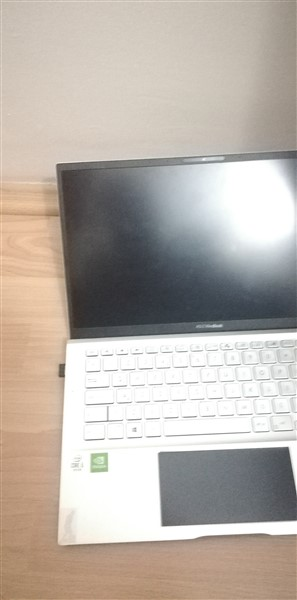laptop: (50, 147, 296, 543)
